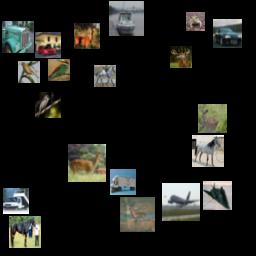airplane: (162, 183, 200, 221), (203, 181, 232, 210)
automobile: (213, 19, 242, 48), (35, 32, 61, 58)
bird: (35, 92, 61, 118), (48, 59, 70, 81), (18, 61, 40, 83)
deer: (68, 144, 106, 182), (120, 197, 155, 232), (198, 104, 227, 133), (74, 23, 100, 49), (170, 46, 192, 68)
frog: (186, 12, 205, 31)
ship: (109, 1, 144, 36)
truck: (2, 21, 34, 53), (110, 169, 136, 195), (3, 188, 29, 214)
